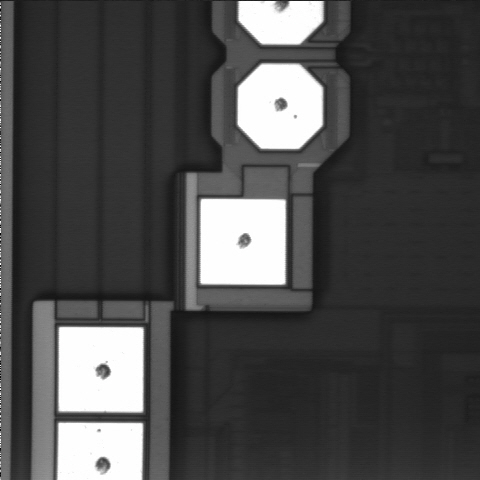pad: (200, 199, 286, 285), (238, 64, 323, 149), (59, 327, 143, 412)
